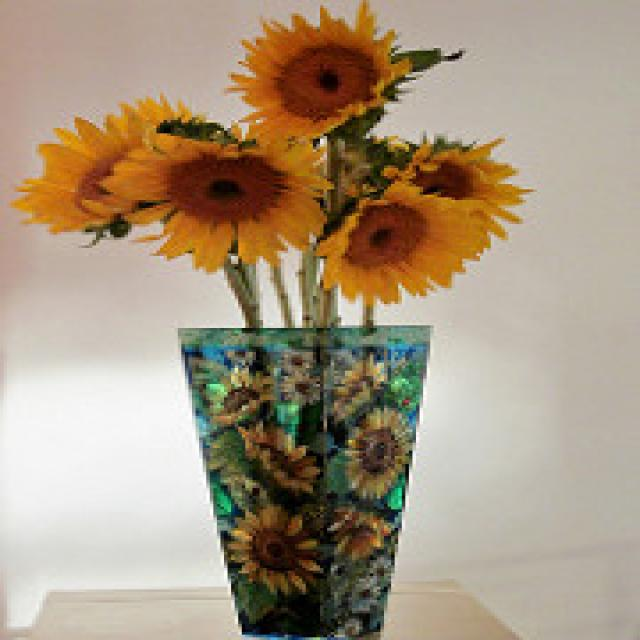sunflower: (102, 118, 340, 278), (9, 88, 204, 245), (304, 169, 503, 316), (217, 4, 416, 145), (391, 131, 541, 229)
